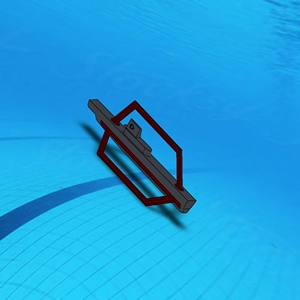submarine: (90, 91, 190, 210), (107, 98, 183, 208)
